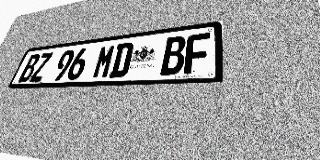6: (65, 47, 90, 80)
9: (51, 49, 76, 81)
B: (160, 35, 186, 75), (18, 54, 41, 82)
D: (109, 42, 134, 78)
F: (184, 32, 210, 74)
M: (91, 44, 117, 79)
Z: (29, 52, 53, 82)
